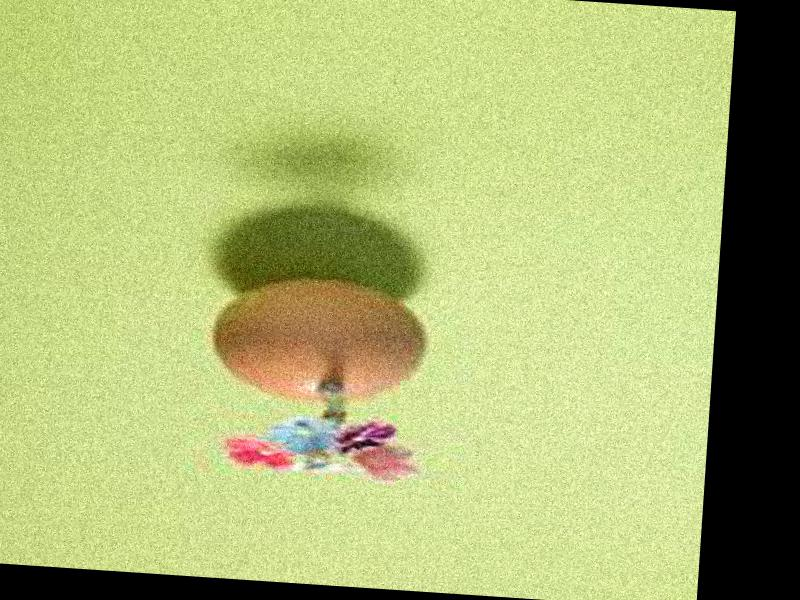Eggs: (211, 271, 429, 407)
